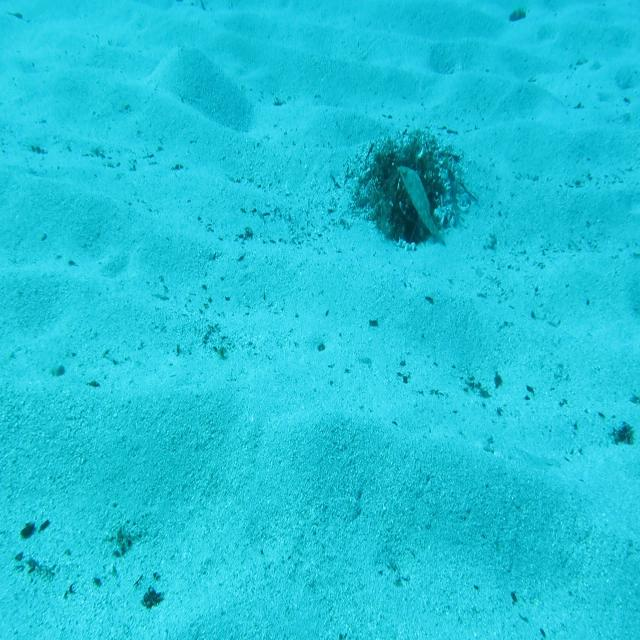MAN: (396, 162, 452, 243)
nest: (341, 128, 472, 250)
